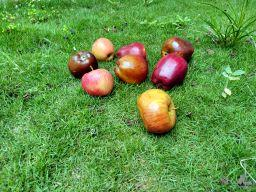apple: (132, 87, 186, 139), (146, 44, 194, 92), (61, 40, 101, 82), (77, 62, 117, 101), (109, 53, 154, 86), (159, 29, 196, 66), (115, 37, 152, 63), (91, 35, 117, 65)
